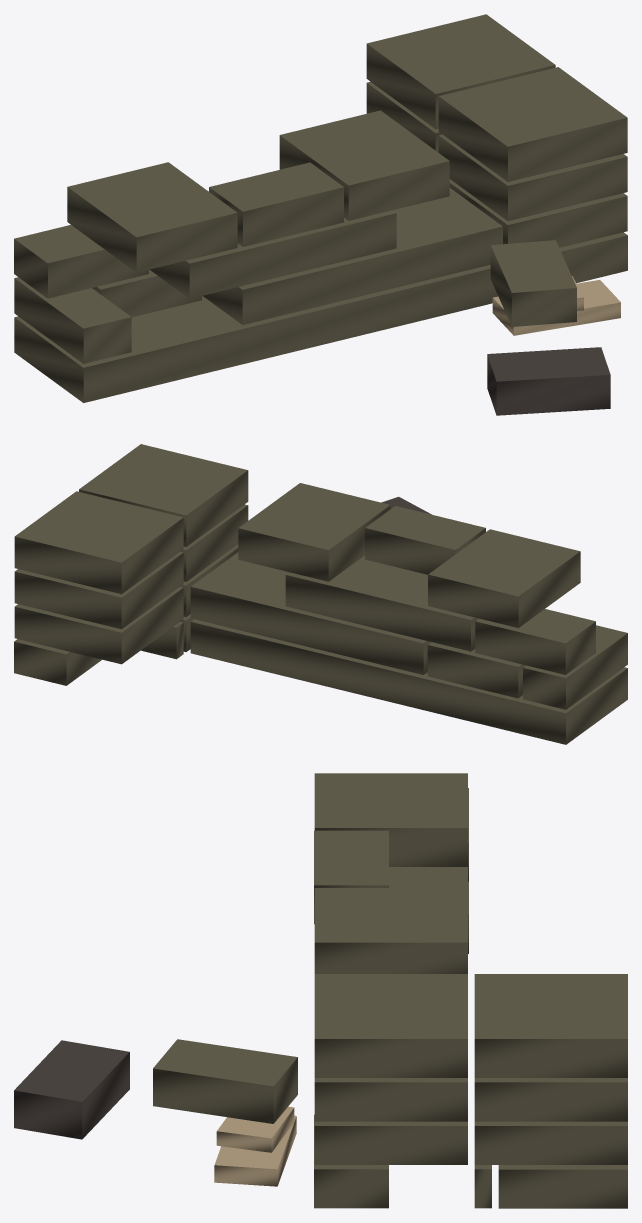
Rendered from SM_SacosRemateEspejo_v0_Recto_e1_Danado_LOD1.fbx.
3 renders of one model, top to bottom at view 1: azimuth 30°, elevation 25°; view 2: azimuth 150°, elevation 25°; view 3: azimuth 270°, elevation 25°, orthographic. The views are drawn at different scales.
Visible parts, largest first — view 1: SM_sacos_piezas_v21_LOD1; view 2: SM_sacos_piezas_v21_LOD1; view 3: SM_sacos_piezas_v21_LOD1.
Boxes of the visible parts, box(x1,y1,x2,y2) form: SM_sacos_piezas_v21_LOD1: box(14, 14, 627, 415); SM_sacos_piezas_v21_LOD1: box(14, 444, 627, 744); SM_sacos_piezas_v21_LOD1: box(14, 773, 627, 1208).
Bounding box in the file's own units: 4.37 × 1.18 × 3.84.
